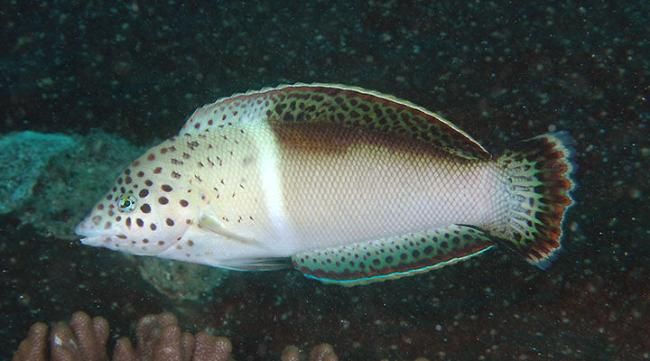fish: (75, 82, 578, 286)
